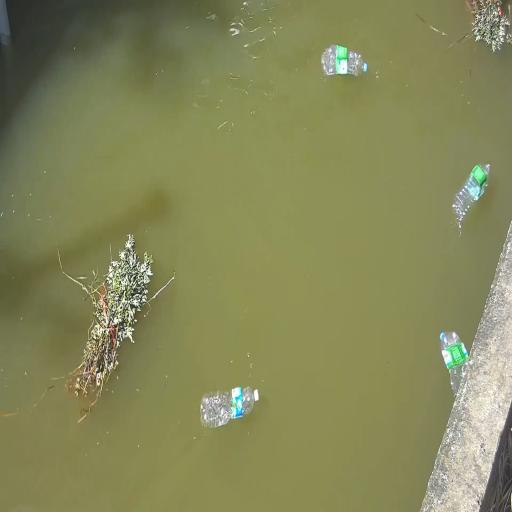plastic: (453, 164, 489, 231), (201, 387, 258, 428), (440, 332, 468, 394), (322, 45, 367, 75), (254, 390, 258, 402)
twig: (59, 234, 174, 412), (470, 0, 512, 52)
